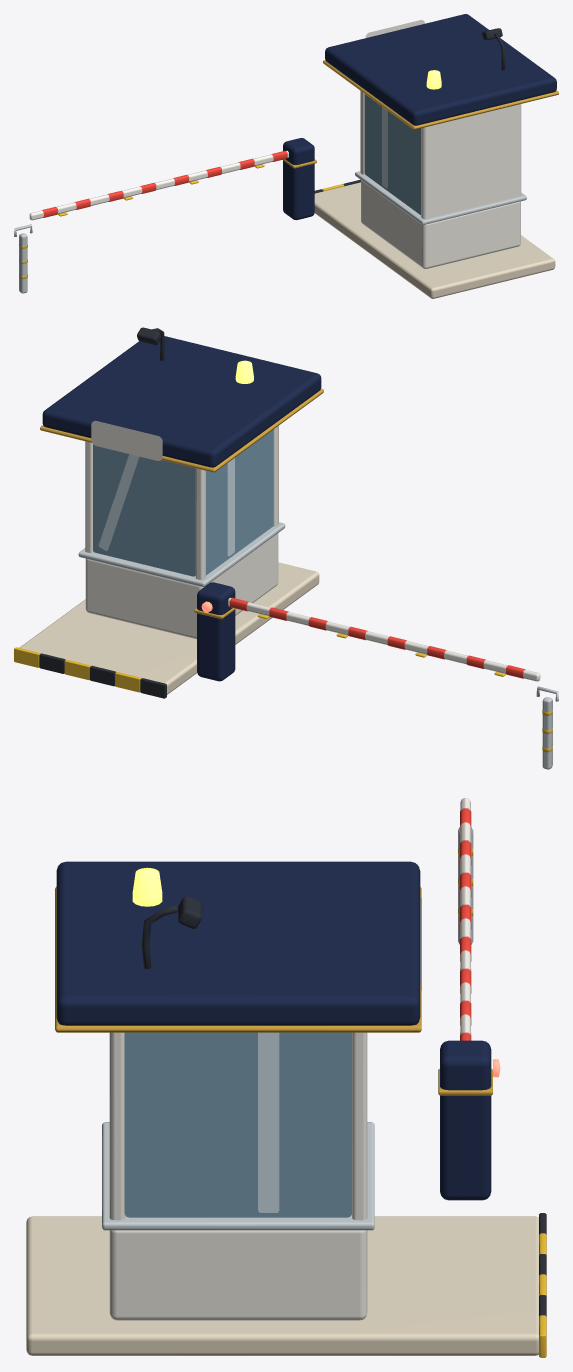
Rendered from RedeGatehouse.fbx.
The picture shows the model from 3 angles, top to bottom: view 1: azimuth 30°, elevation 25°; view 2: azimuth 150°, elevation 25°; view 3: azimuth 270°, elevation 25°; orthographic projection. The views are drawn at different scales.
Parts seen in each view (by area): view 1: RedeGatehouse_Body.005, RedeGatehouse_Arm.005; view 2: RedeGatehouse_Body.005, RedeGatehouse_Arm.005; view 3: RedeGatehouse_Body.005, RedeGatehouse_Arm.005.
Part boxes in pixels (left/top/right/bottom): RedeGatehouse_Body.005: left=14, top=14, right=558, bottom=298; RedeGatehouse_Arm.005: left=29, top=150, right=288, bottom=220; RedeGatehouse_Body.005: left=14, top=327, right=558, bottom=769; RedeGatehouse_Arm.005: left=228, top=597, right=540, bottom=681; RedeGatehouse_Body.005: left=26, top=827, right=546, bottom=1357; RedeGatehouse_Arm.005: left=460, top=798, right=471, bottom=1040.
Bounding box in the file's own units: 6.75 × 3.15 × 3.44.
